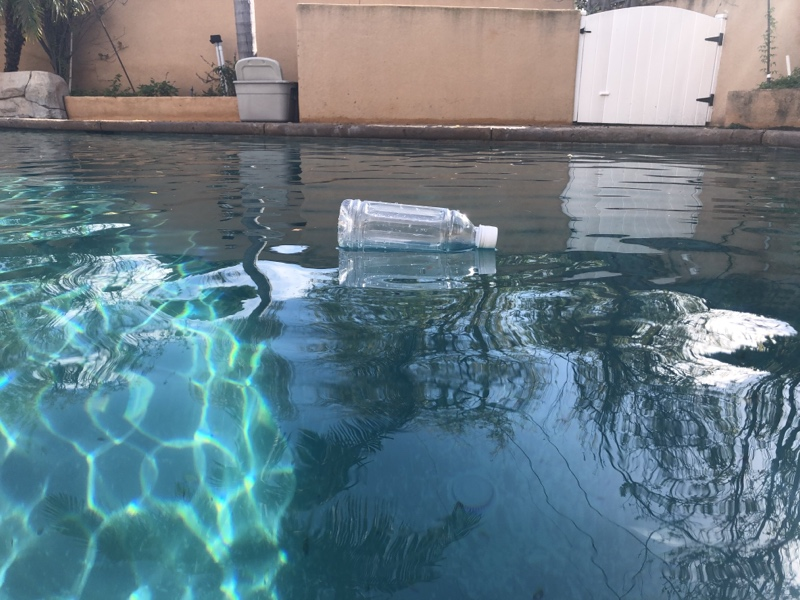Plastic Bottle: (333, 193, 501, 259)
